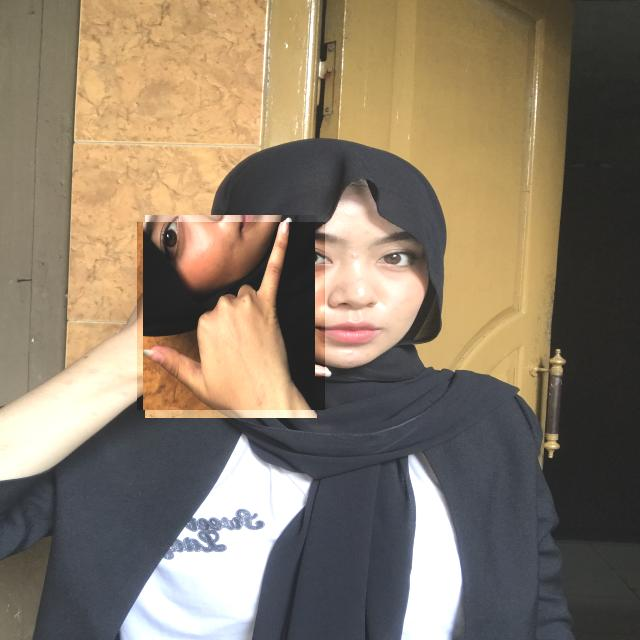telpon: (137, 222, 326, 410)
